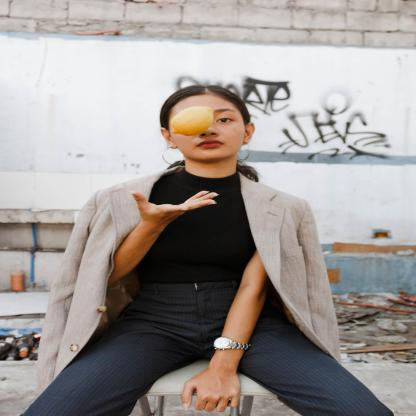Eye: (216, 117, 233, 124)
Mouth: (196, 140, 224, 148)
Nose: (198, 126, 219, 139)
